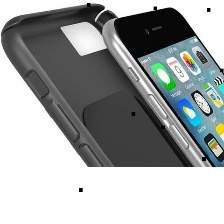phone: (97, 4, 224, 202)
